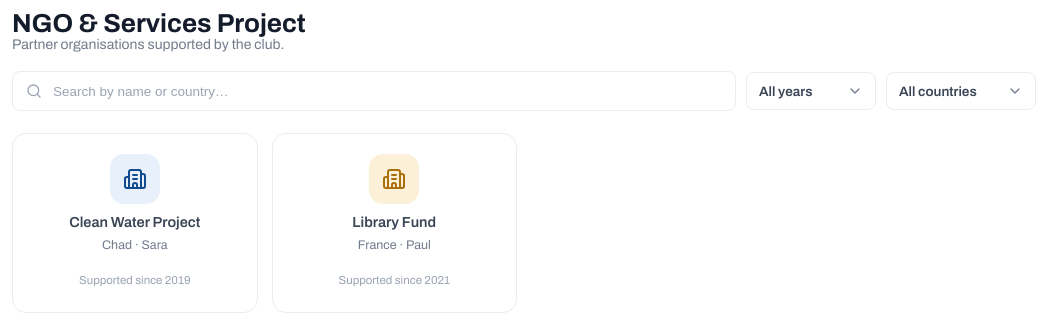
Test: OrganisationsList › filters organisations by the search box
Type "water" into the field labelled "Search" at (386, 91), box [51, 83, 722, 100]
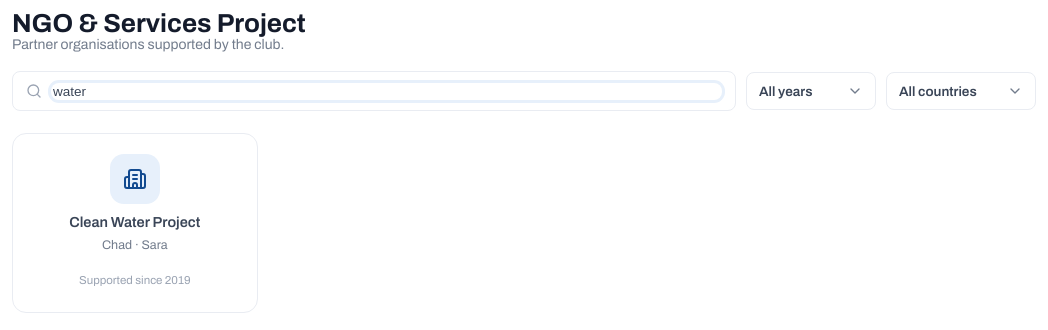
Check: the text "Clean Water Project" is shown, box [69, 214, 200, 230]
Check: the text "Library Fund" is gone
